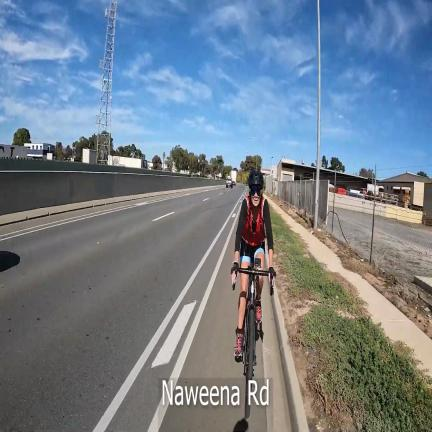Bike_Lane: (159, 233, 291, 432)
